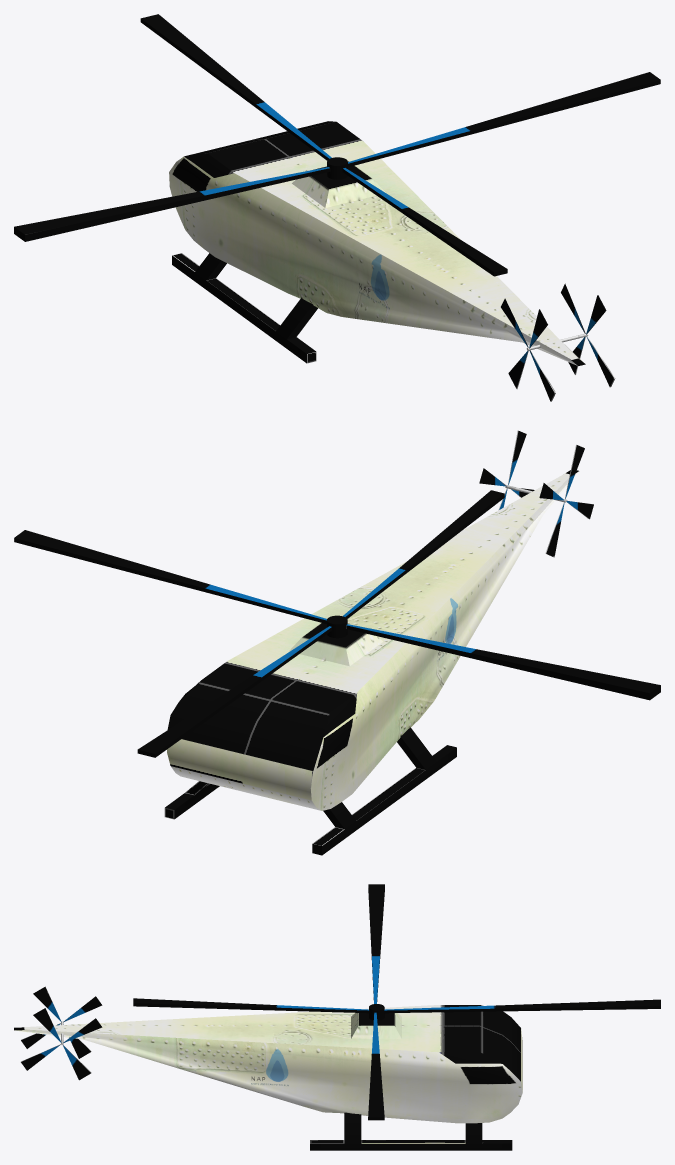
The model's file is playerShip01.fbx.
The picture shows the model from 3 angles, top to bottom: view 1: azimuth 30°, elevation 25°; view 2: azimuth 150°, elevation 25°; view 3: azimuth 270°, elevation 25°; orthographic projection. The views are drawn at different scales.
Visible parts, largest first — view 1: polySurface1; view 2: polySurface1; view 3: polySurface1.
Boxes of the visible parts, x1,y1,x2,y2 form: polySurface1: [14, 14, 660, 401]; polySurface1: [14, 430, 660, 855]; polySurface1: [14, 884, 660, 1150].
Bounding box in the file's own units: 32 × 8.14 × 37.56.
Materials: 1 (1 with a texture image).
